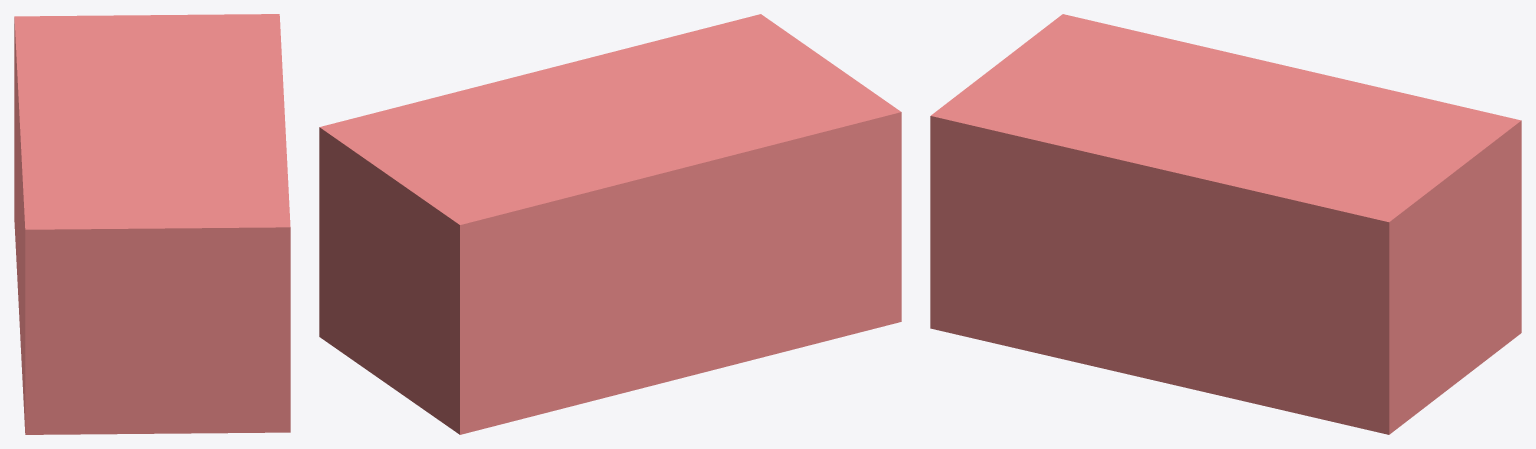
File: aid_box_fbx.fbx
3 renders of one model, left to right at view 1: azimuth 30°, elevation 25°; view 2: azimuth 150°, elevation 25°; view 3: azimuth 270°, elevation 25°, orthographic. The views are drawn at different scales.
Visible parts, largest first — view 1: Cube; view 2: Cube; view 3: Cube.
Boxes of the visible parts, x1,y1,x2,y2 form: Cube: (14,14,290,434); Cube: (319,14,901,434); Cube: (930,14,1521,434).
Bounding box in the file's own units: 1.09 × 0.5197 × 1.31.
